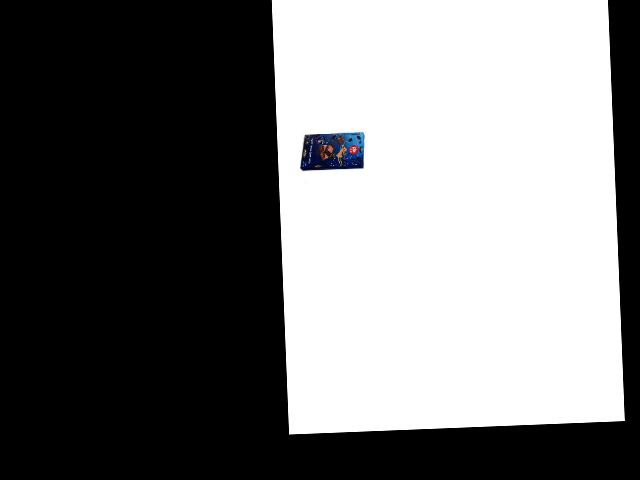chocolate: (298, 127, 366, 175)
